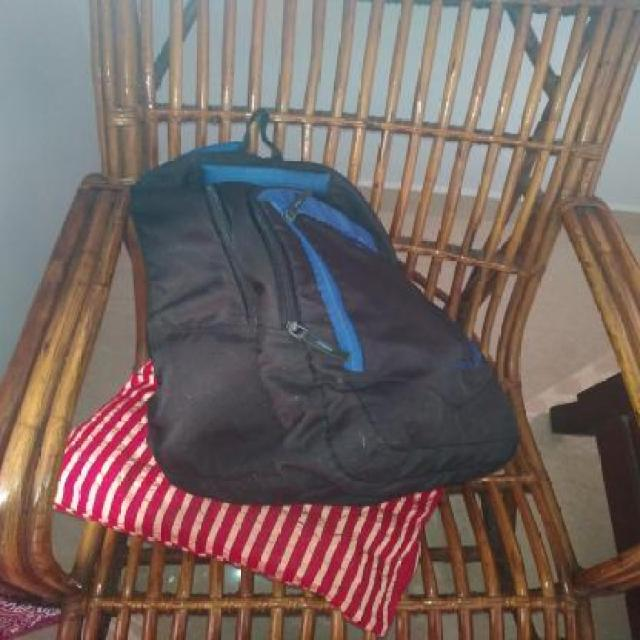backpack: (125, 106, 523, 511)
